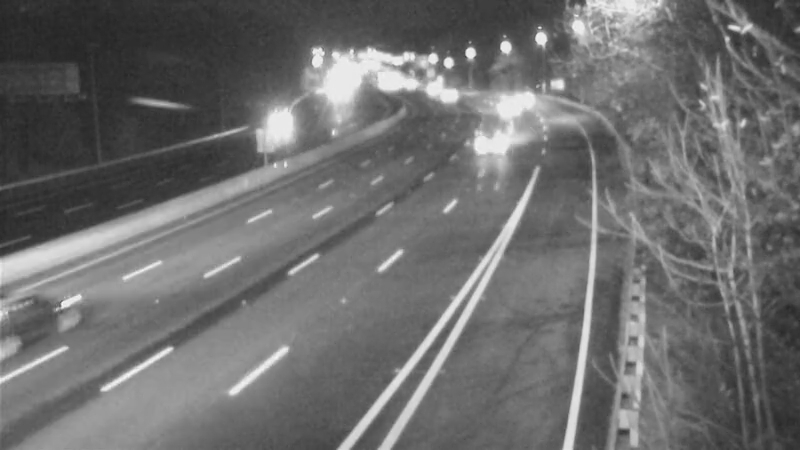vehicle: (1, 278, 93, 388), (461, 117, 511, 167), (253, 101, 303, 151)
